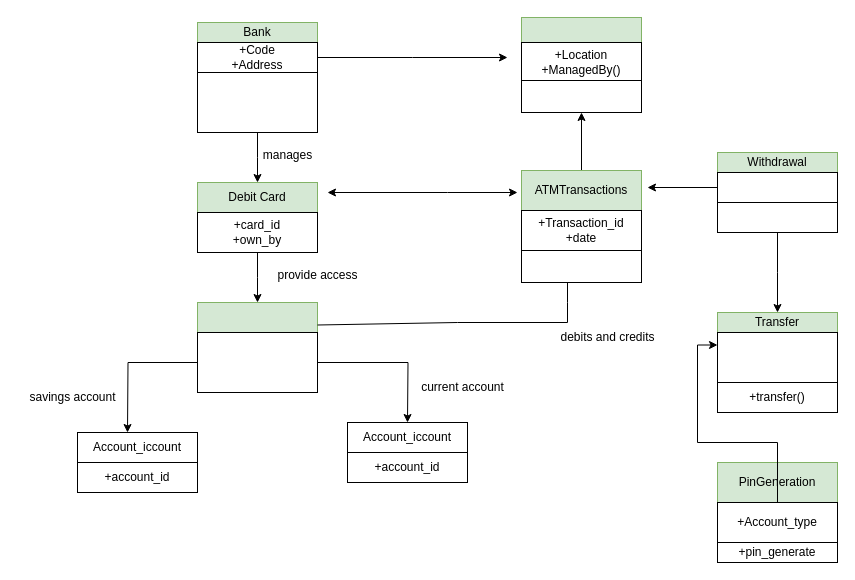
This 855x580 diagram has some shape labels left out. The shapes that lost their labels are listed below. From the top down, each one's centre as x and y in pixels, then its label:
the point at 581,29: ATM
the point at 257,102: +manages +ownss_to()
the point at 581,96: +Transaction() +identities()
the point at 777,187: +Amount
the point at 777,217: +withdraw
the point at 581,266: +update
the point at 257,317: Account
the point at 257,362: +type +check_balance()
the point at 777,357: +amount +acount_id
